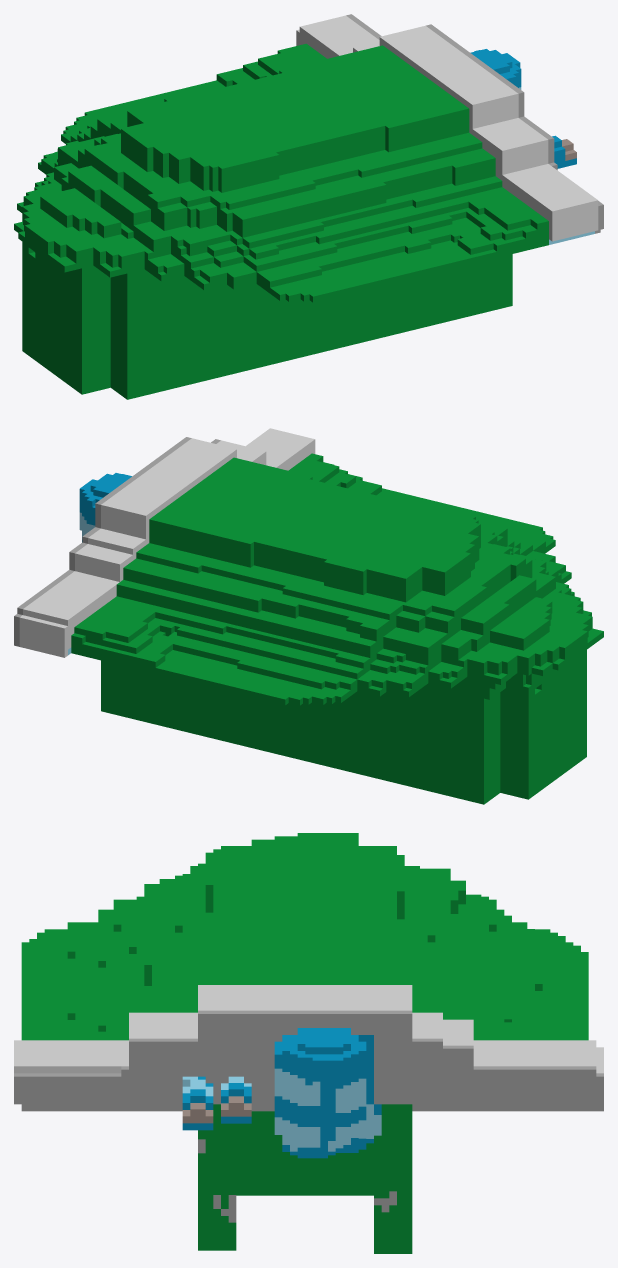
The model's file is goodnight-moon-11-asleep2.obj.
3 renders of one model, top to bottom at view 1: azimuth 30°, elevation 25°; view 2: azimuth 150°, elevation 25°; view 3: azimuth 270°, elevation 25°, orthographic. The views are drawn at different scales.
Visible parts, largest first — view 1: asleep2; view 2: asleep2; view 3: asleep2.
Boxes of the visible parts, x1,y1,x2,y2 form: asleep2: (14, 14, 603, 399); asleep2: (14, 428, 603, 804); asleep2: (14, 833, 603, 1253).
Size of the model in its own units: 8.5 by 3.5 by 7.7.
1 material, 1 textured.
